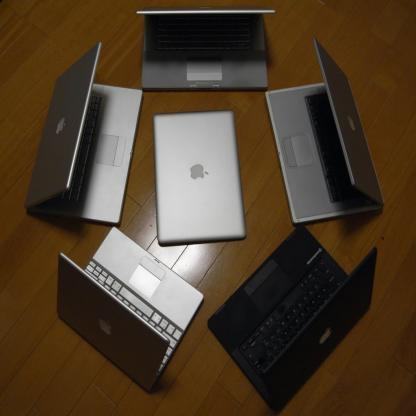board: (210, 218, 376, 398), (57, 228, 205, 392), (266, 36, 384, 227), (26, 37, 140, 226), (152, 108, 244, 244), (138, 8, 274, 92)
